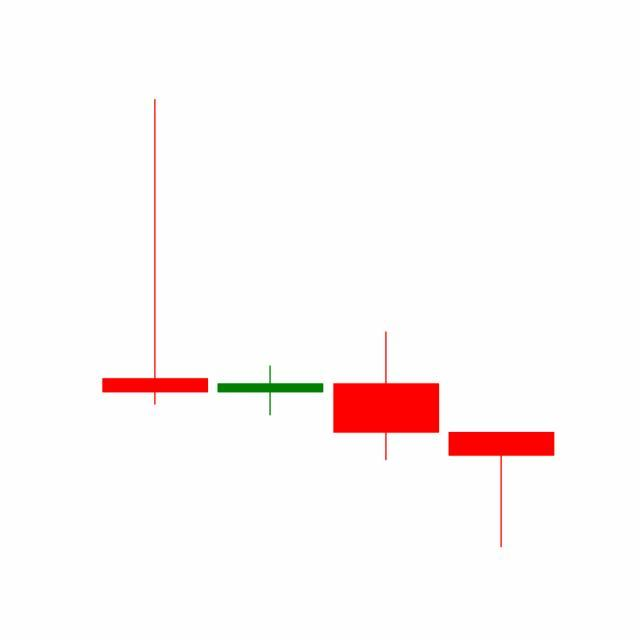Hammer: (444, 431, 560, 550)
